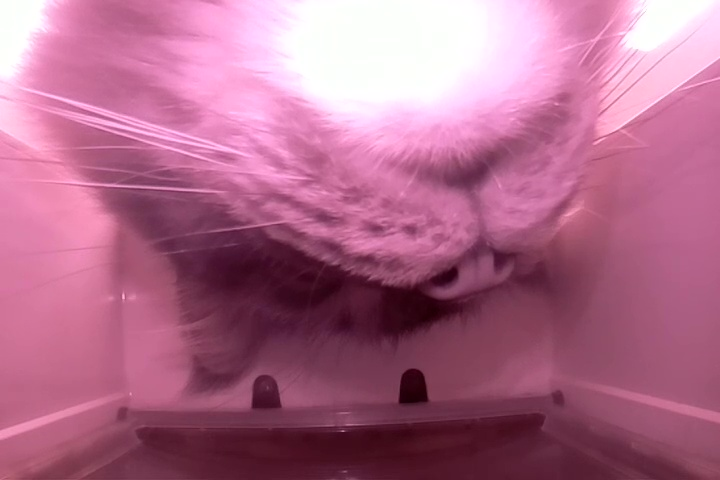Snout: (300, 69, 596, 307)
